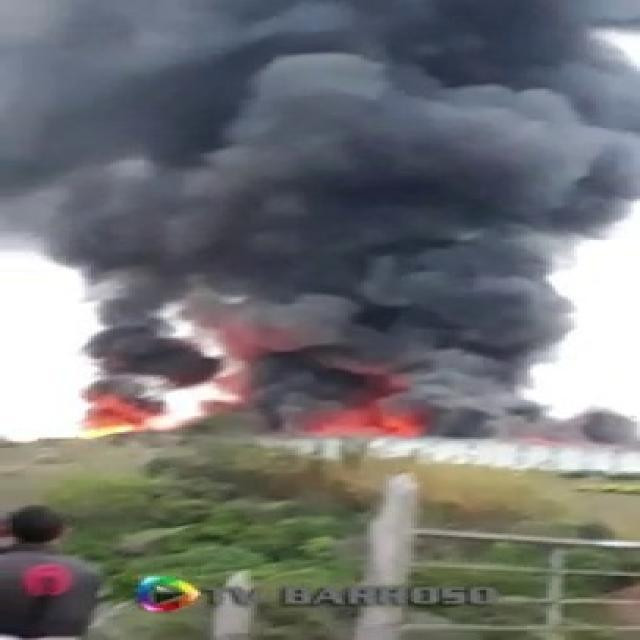Fire: (52, 414, 150, 446)
Smoke: (34, 0, 634, 434)
